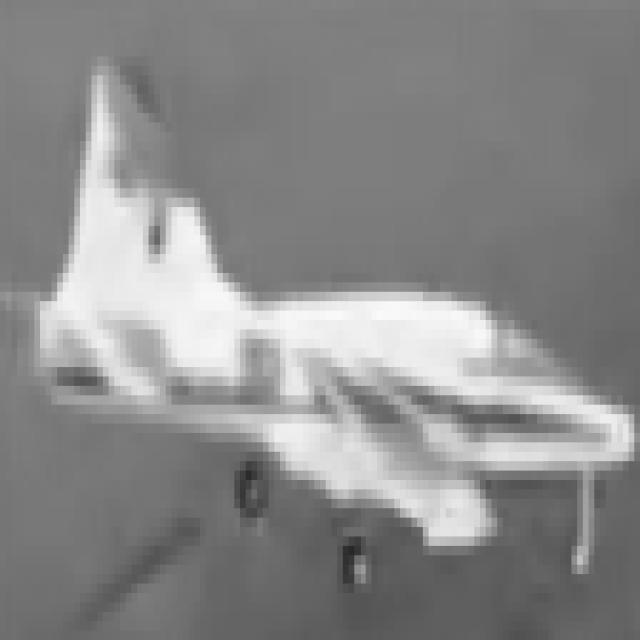iha: (27, 2, 629, 565), (343, 536, 360, 574)
